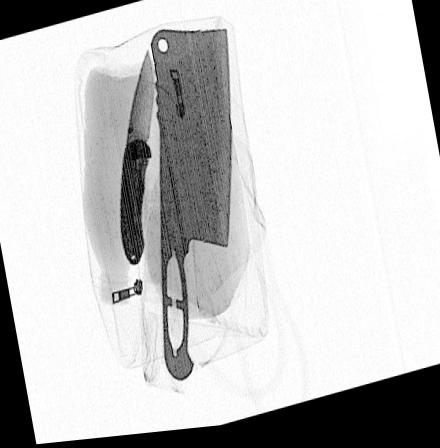Knife: (149, 31, 232, 385), (118, 55, 153, 268)
